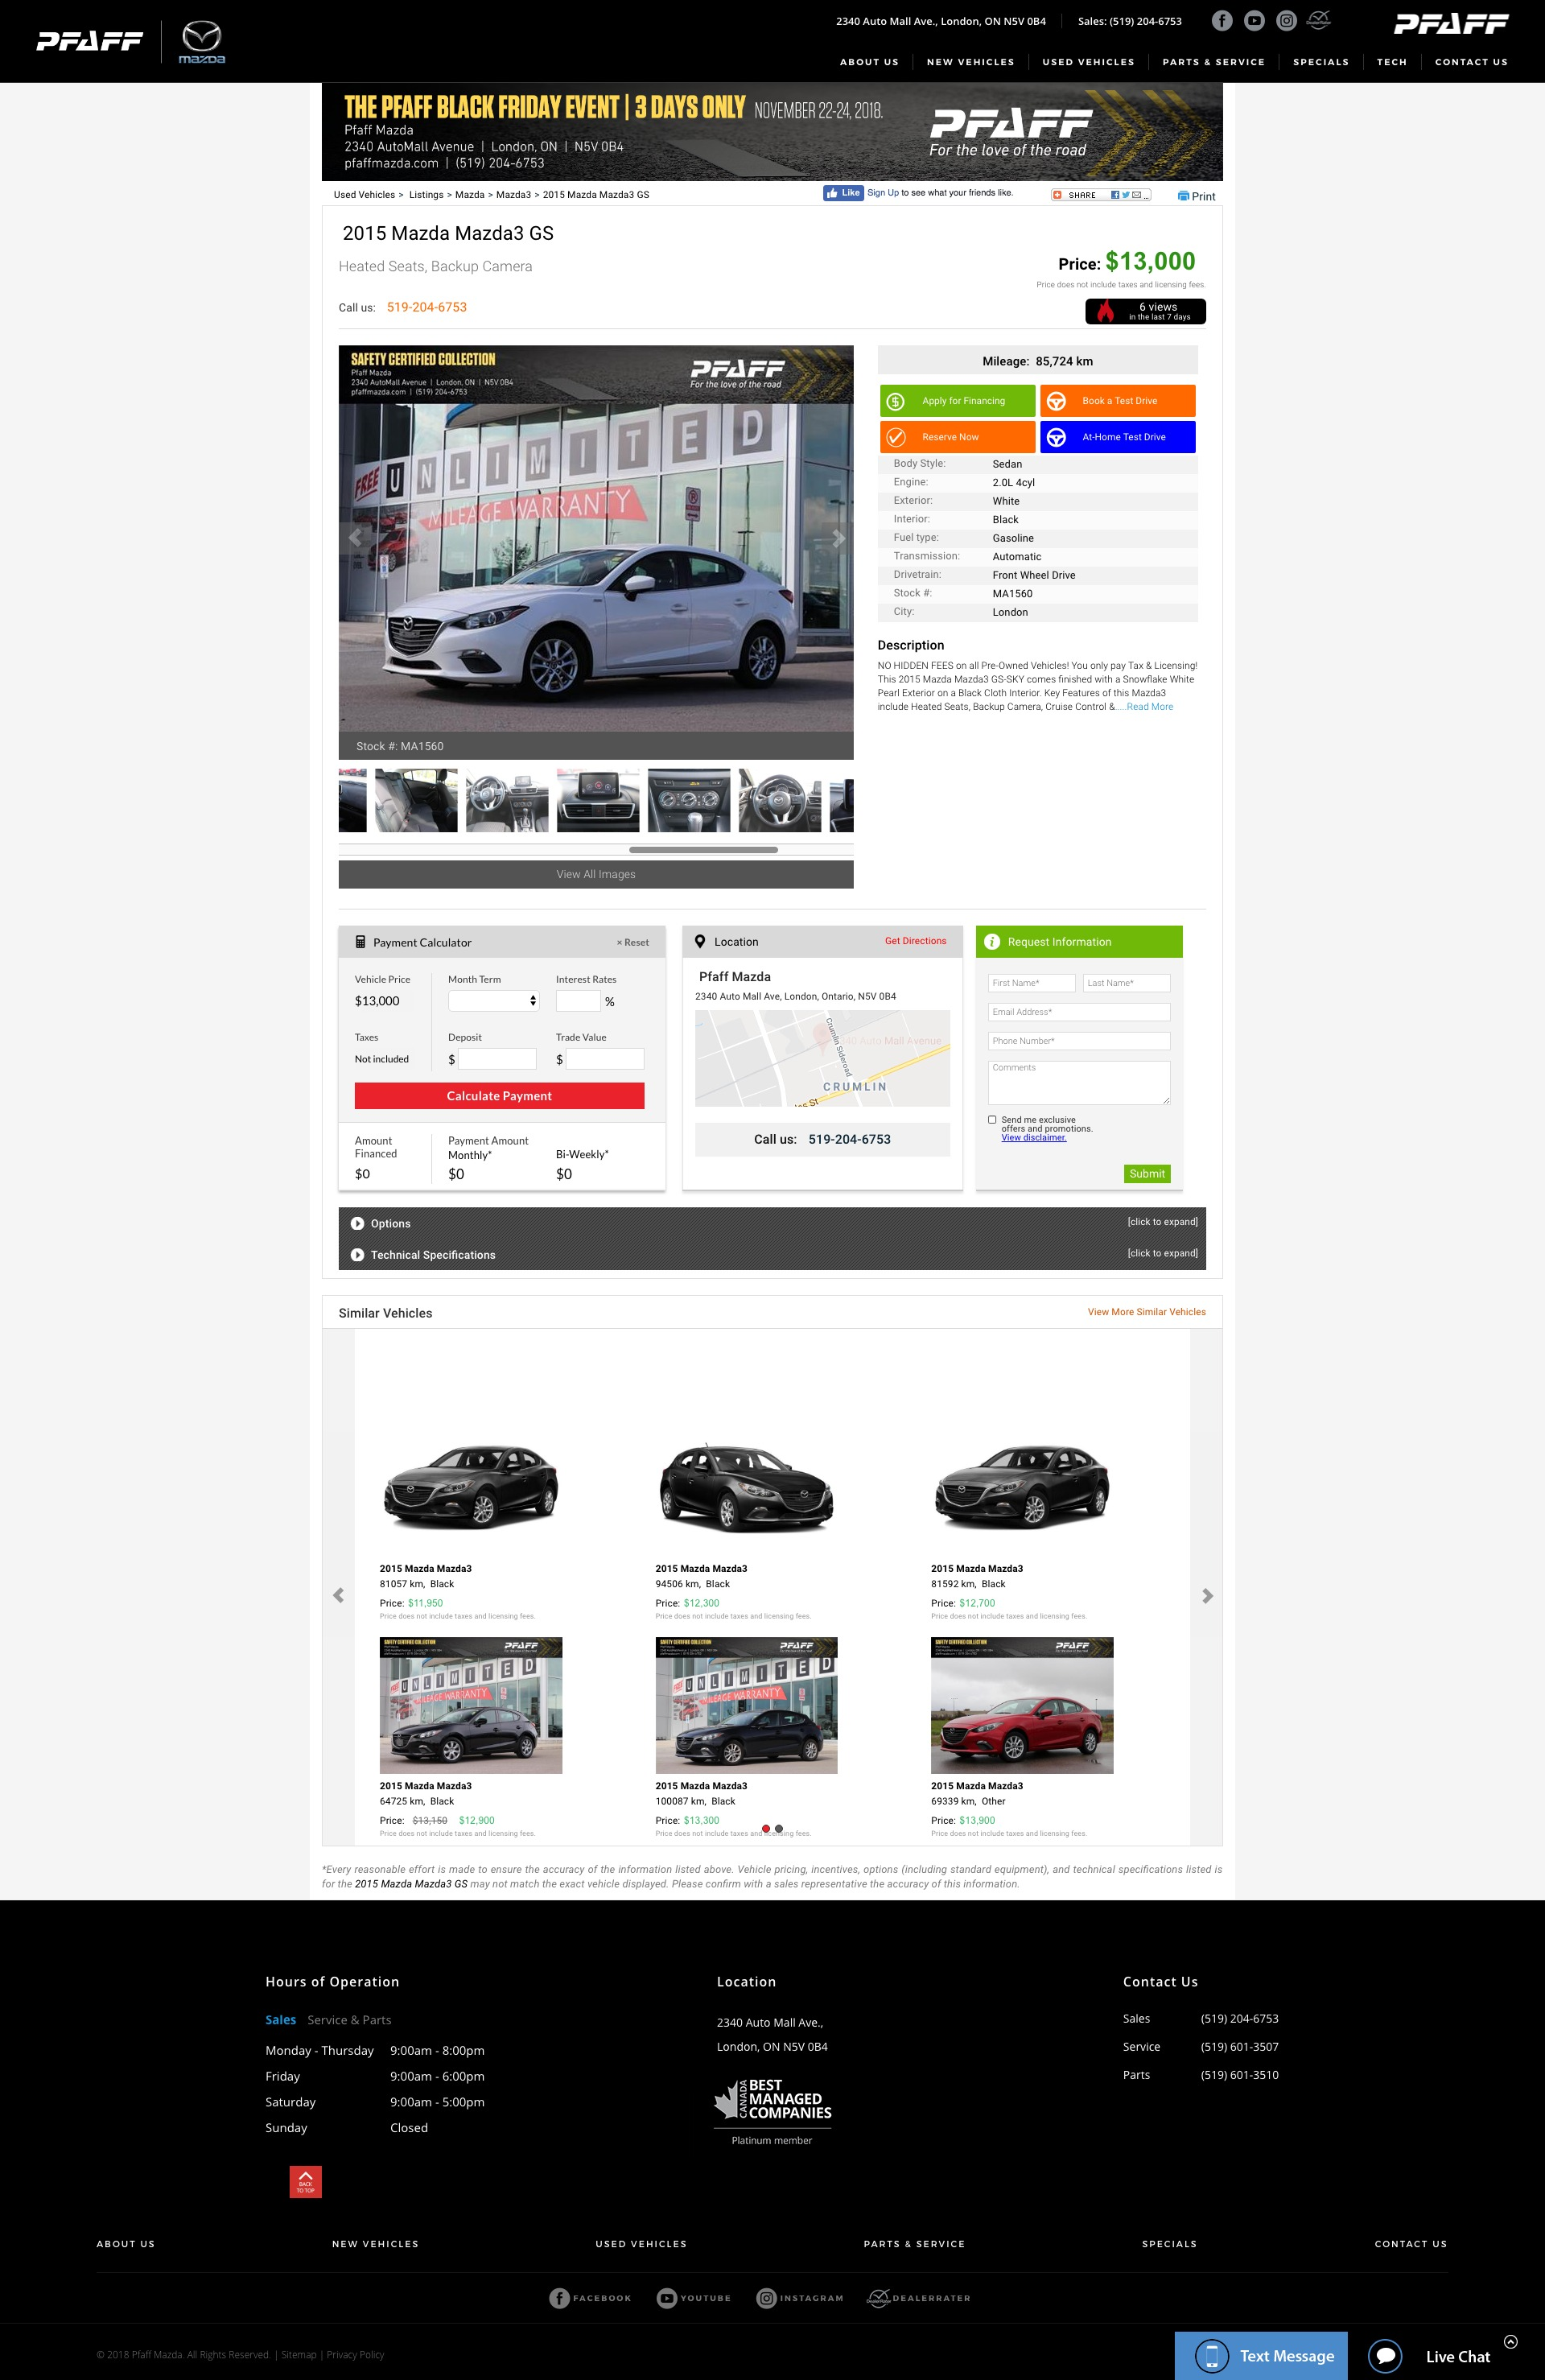car: (832, 529, 848, 550)
